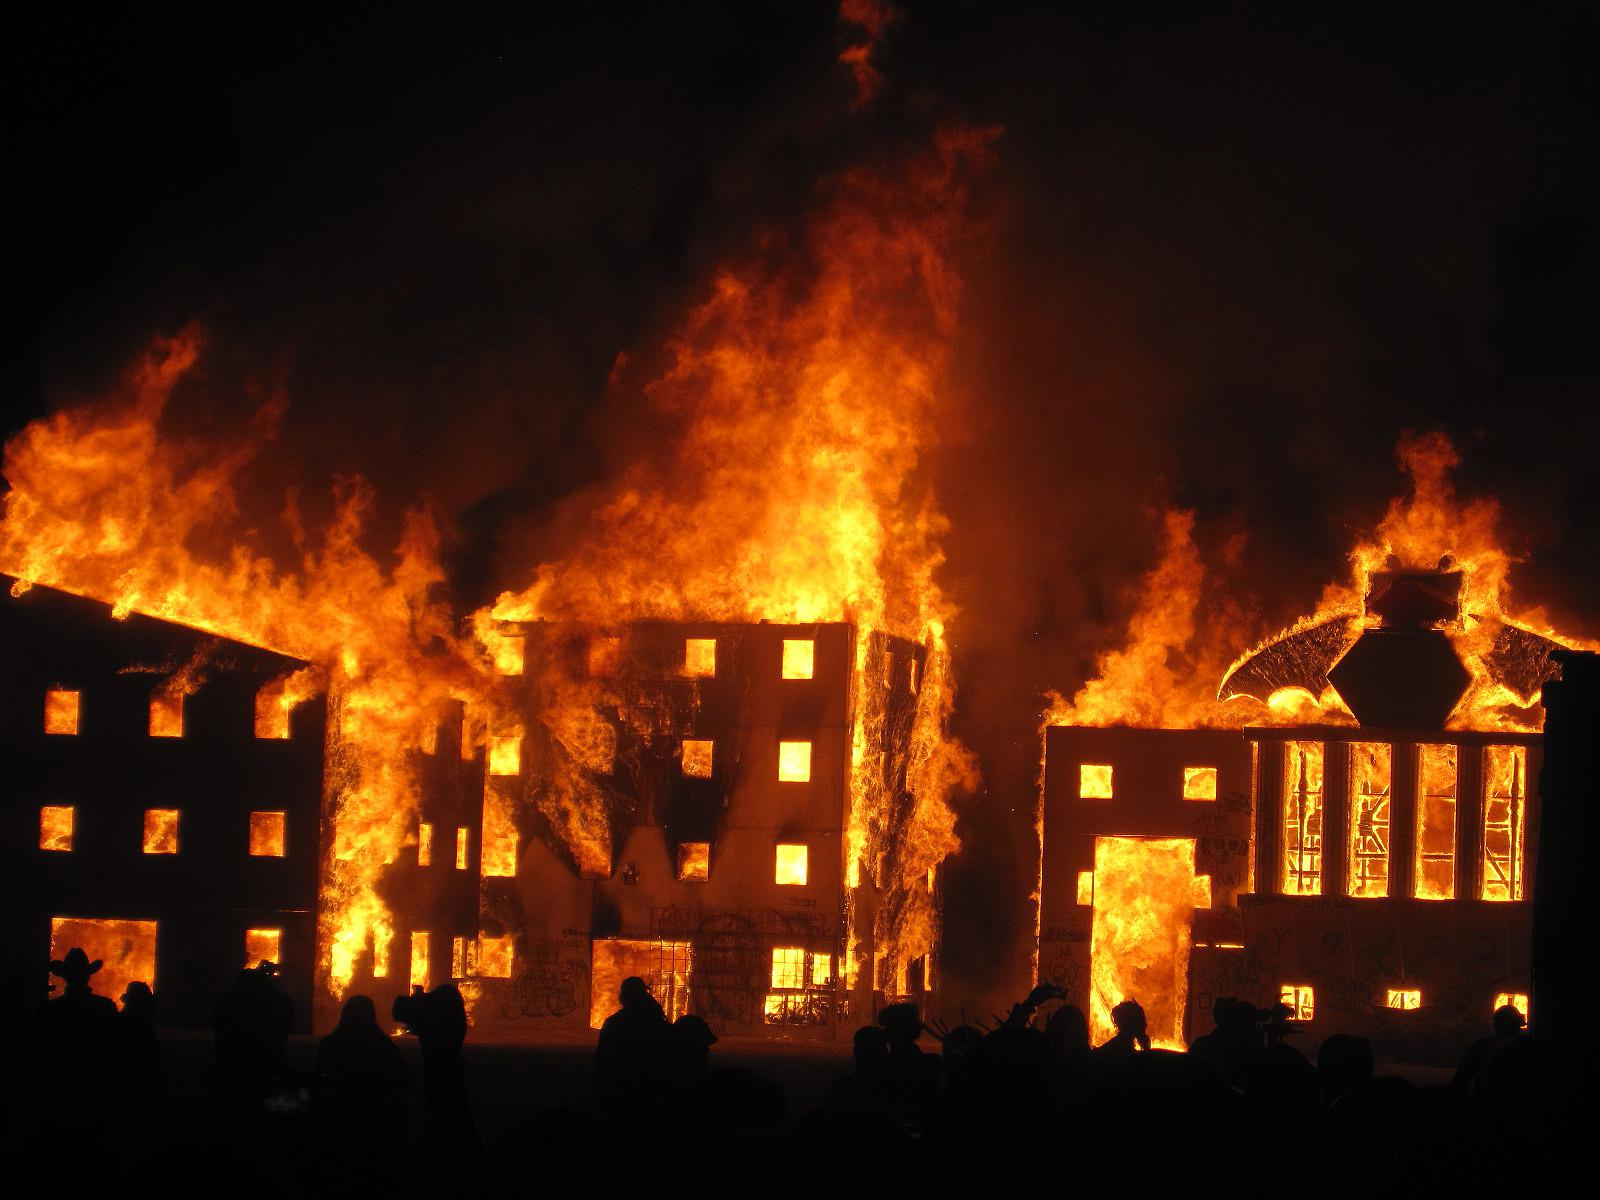fire: (540, 182, 990, 1047), (1049, 444, 1562, 1045), (10, 345, 442, 984)
